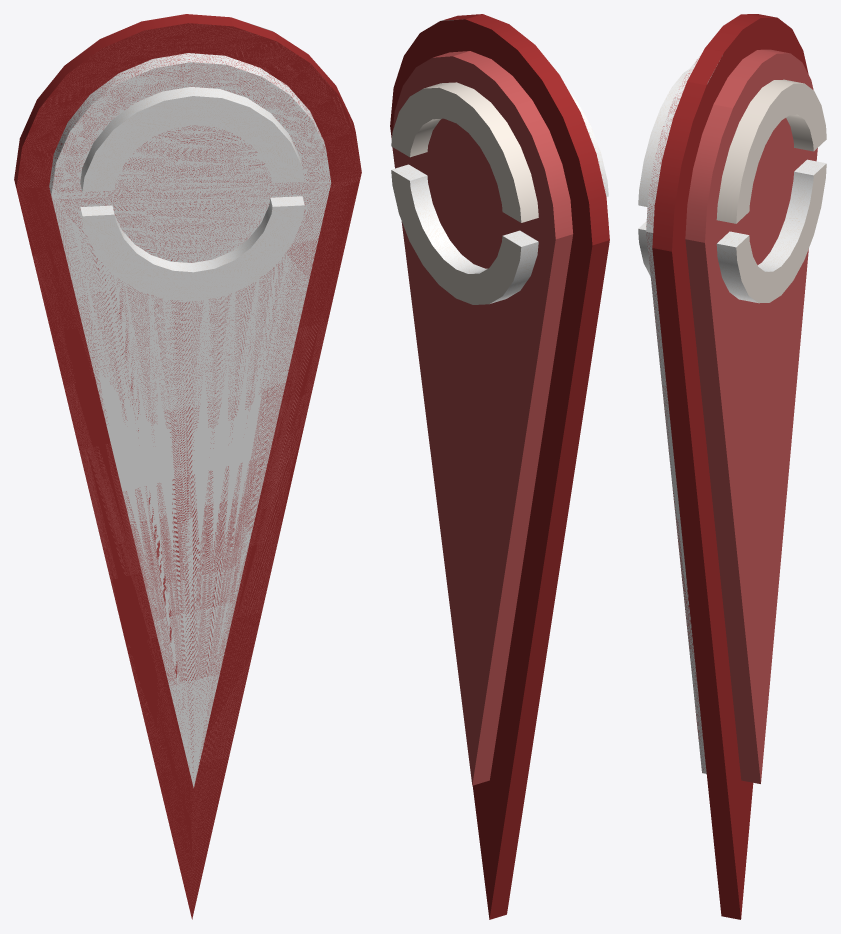
File: Marker.dae
The picture shows the model from 3 angles, left to right: view 1: azimuth 30°, elevation 25°; view 2: azimuth 150°, elevation 25°; view 3: azimuth 270°, elevation 25°; orthographic projection.
Parts seen in each view (by area): view 1: SketchUp (×5); view 2: SketchUp (×5); view 3: SketchUp (×7).
Boxes of the visible parts, bbox=[...] form: SketchUp (×5): bbox=[14, 14, 361, 919]; SketchUp (×5): bbox=[390, 14, 609, 919]; SketchUp (×7): bbox=[638, 14, 826, 919].
Bounding box in the file's own units: 29.55 × 17.27 × 89.74.
